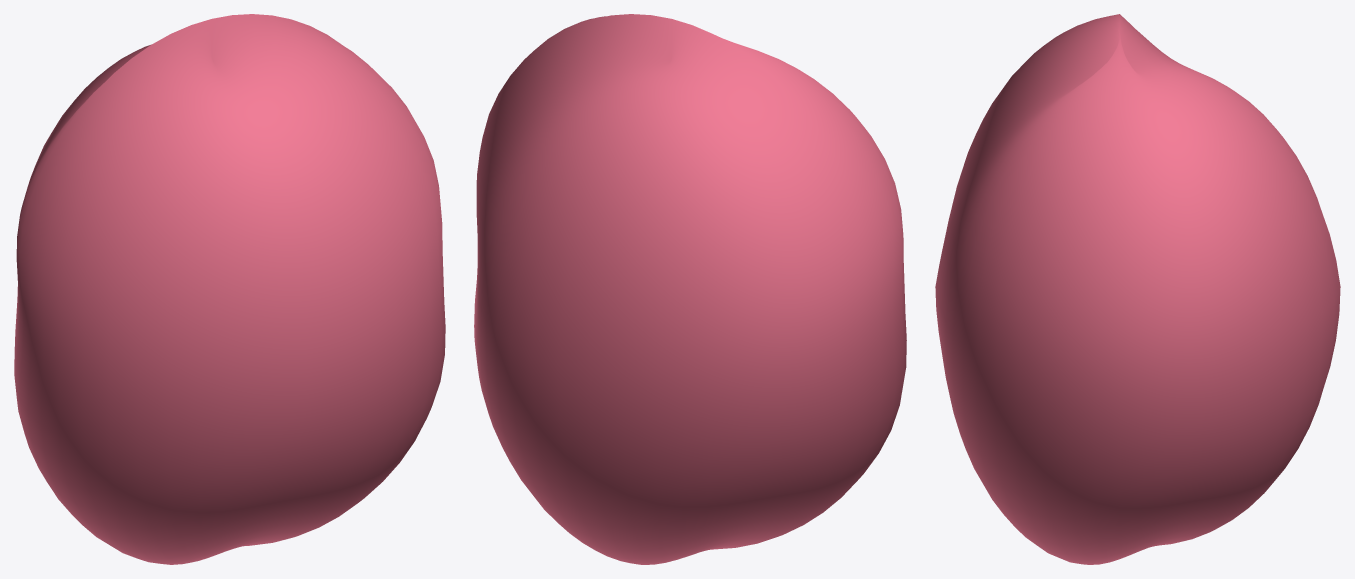
Rendered from heart.glb.
The picture shows the model from 3 angles, left to right: view 1: azimuth 30°, elevation 25°; view 2: azimuth 150°, elevation 25°; view 3: azimuth 270°, elevation 25°; orthographic projection. The views are drawn at different scales.
Visible parts, largest first — view 1: heart; view 2: heart; view 3: heart.
Part boxes in pixels (<box>): heart: <box>14,14,445,564</box>; heart: <box>474,14,906,564</box>; heart: <box>935,14,1340,564</box>.
Size of the model in its own units: 0.1695 by 0.2164 by 0.156.
